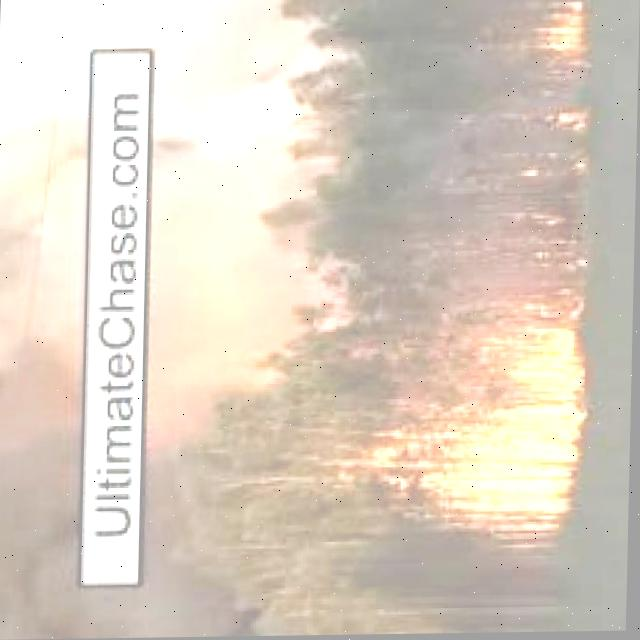Fire: (427, 320, 584, 535), (528, 218, 586, 318), (528, 111, 596, 187), (539, 2, 584, 63)
Smoke: (149, 0, 416, 638), (0, 88, 90, 640)
